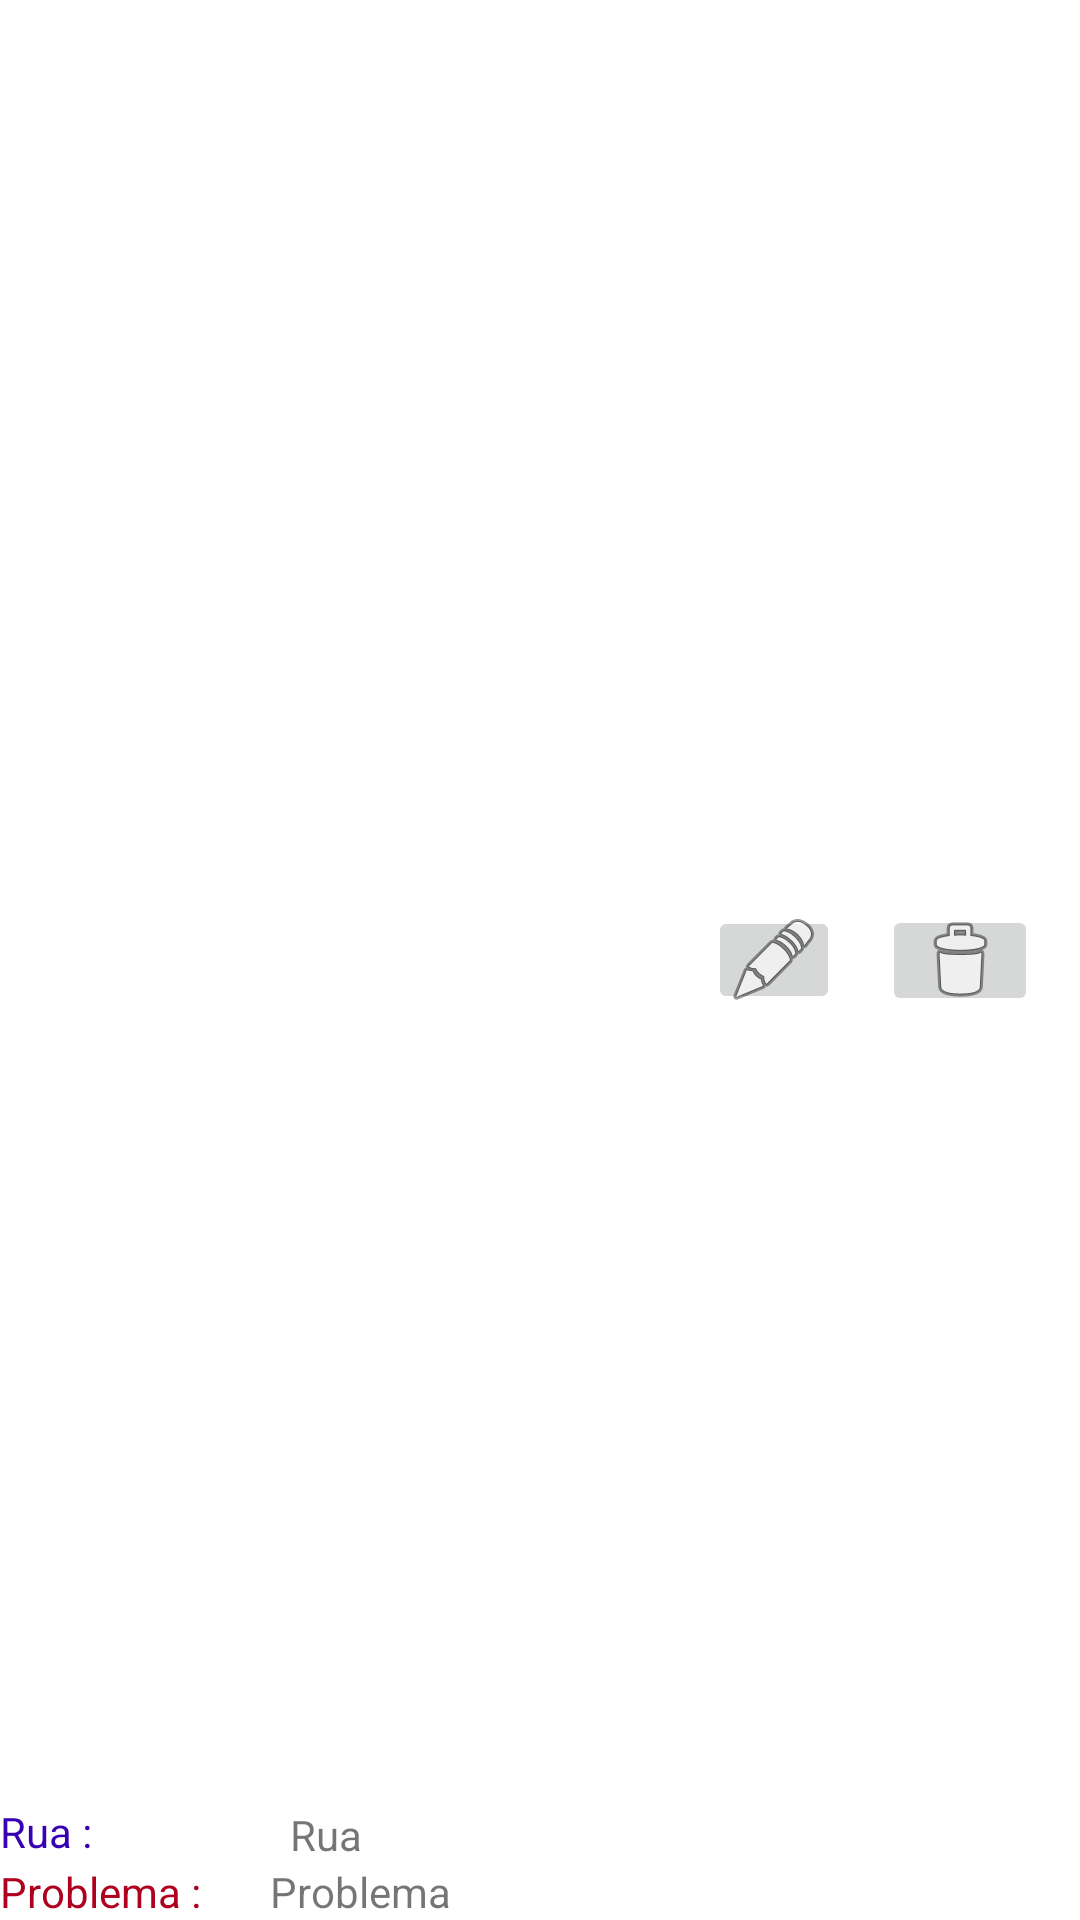

Named icons in this screenshot (1080px x 1920px) and their centers, point (x, y):
delete: point (960, 960)
edit: point (774, 959)
